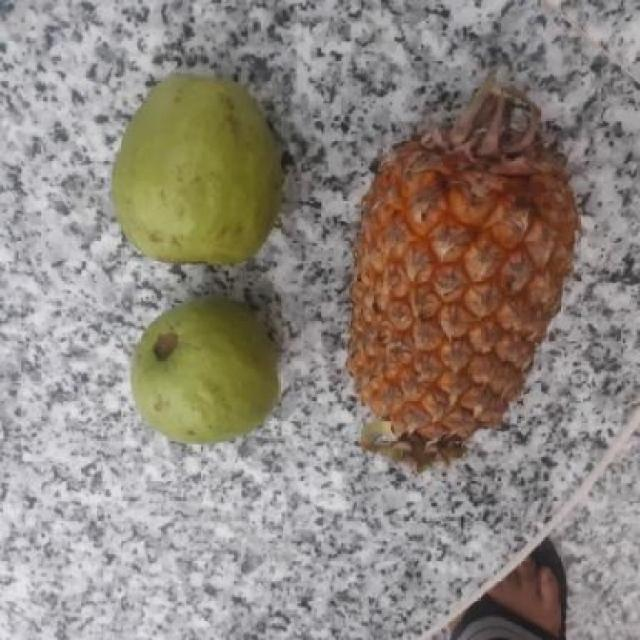guava: (105, 75, 288, 262), (121, 300, 281, 443)
pineapple: (340, 132, 580, 457)
